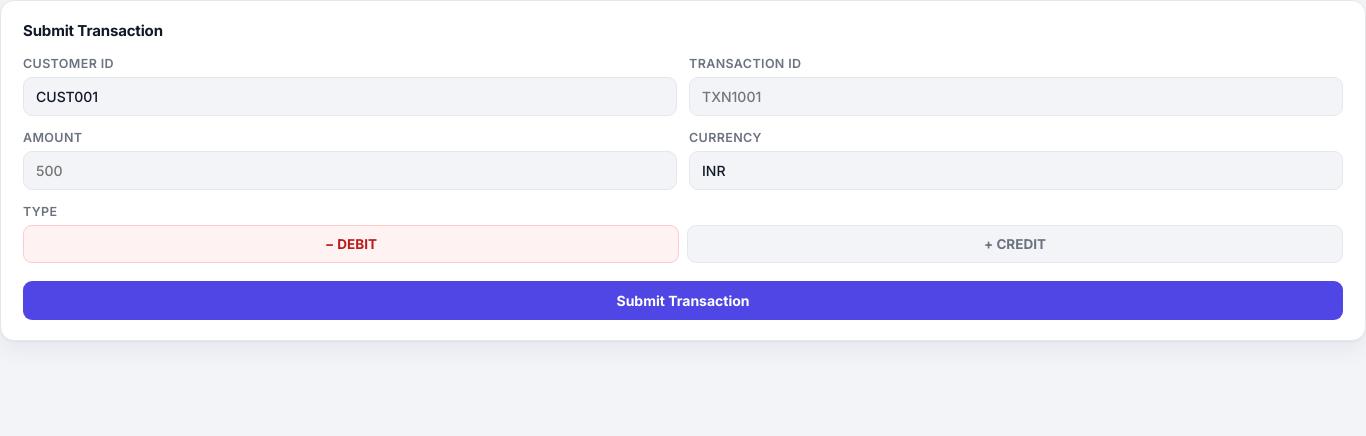
Scenario: TransactionForm › submits a transaction and displays the terminal SUCCESS result
In the field with placeholder "TXN1001": (1016, 96) [689,77,1343,116], type "TXN1"
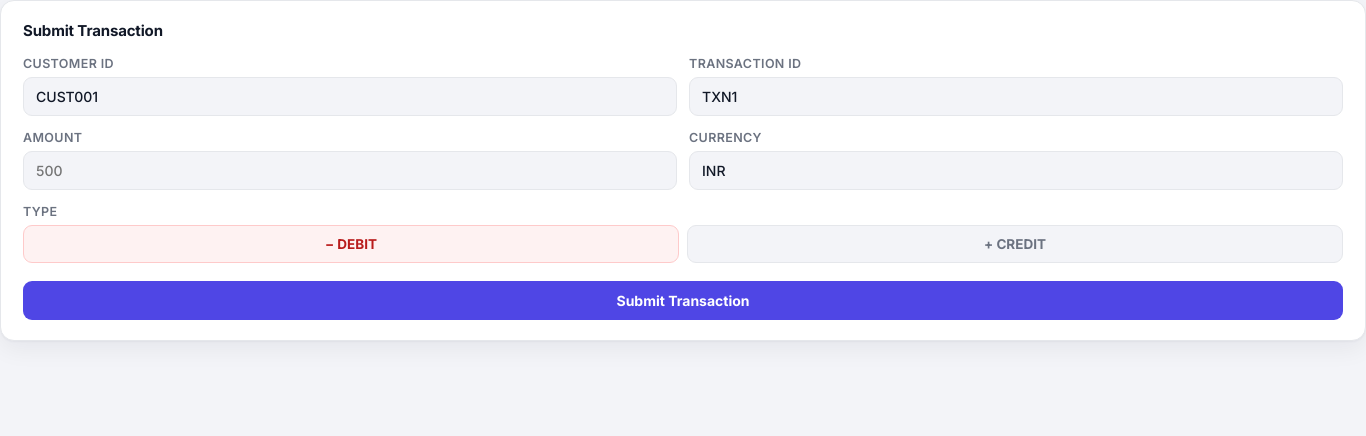
In the number field with placeholder "500": (350, 170) [23,151,677,190], type "100"
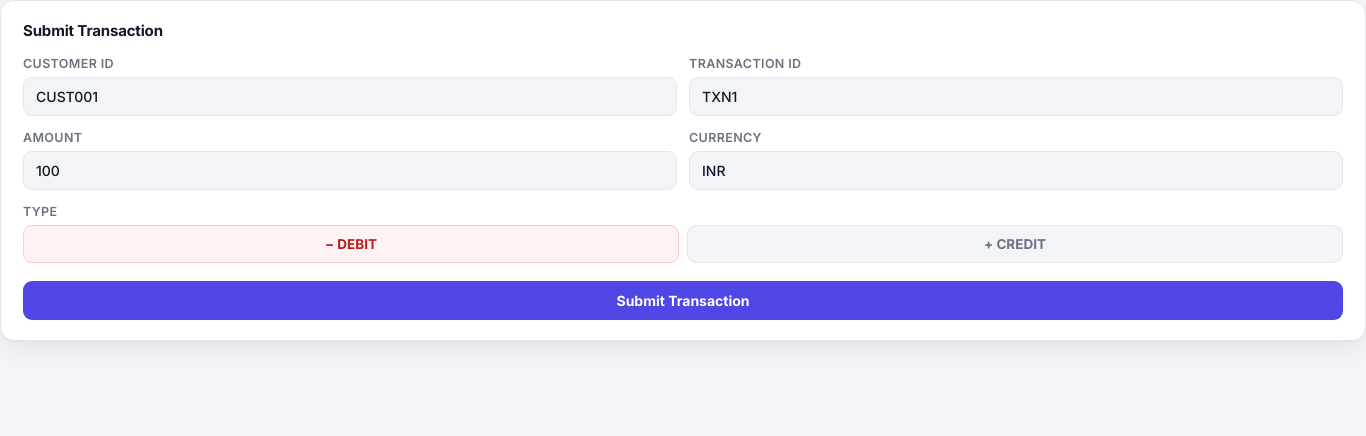
Click the button "Submit Transaction": (683, 300) [23,281,1343,320]
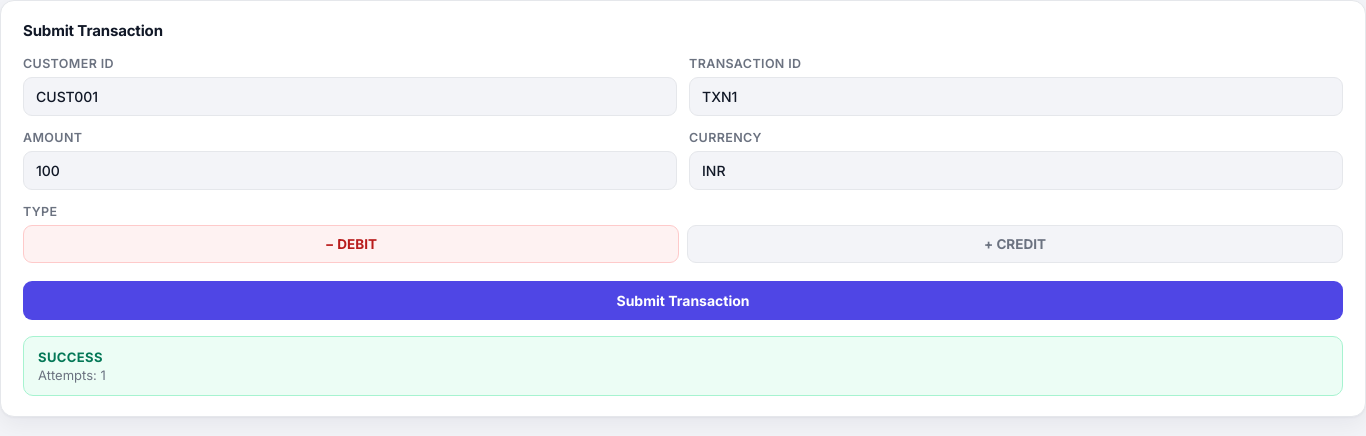
Now the element with test id "transaction-result" shows "SUCCESS", box [38,349,103,365]
